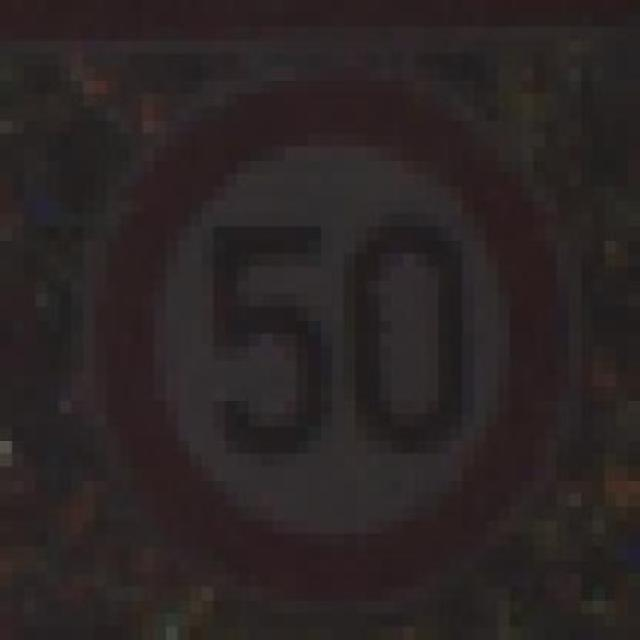forb_speed_over_50: (104, 84, 568, 591)
